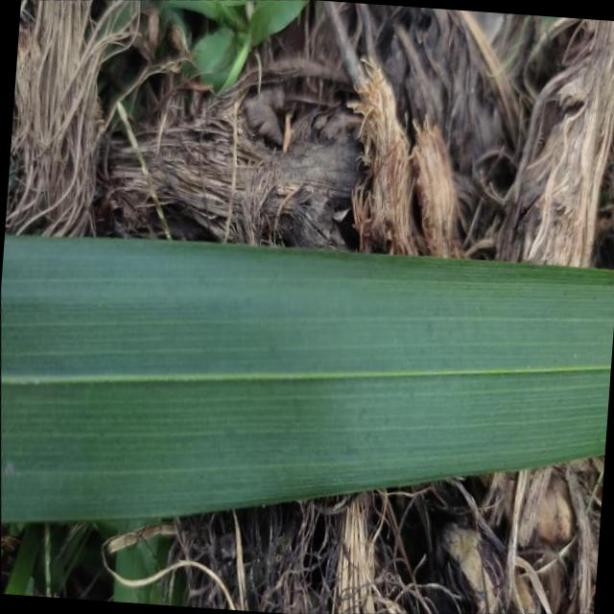Healthy: (3, 228, 614, 526)
